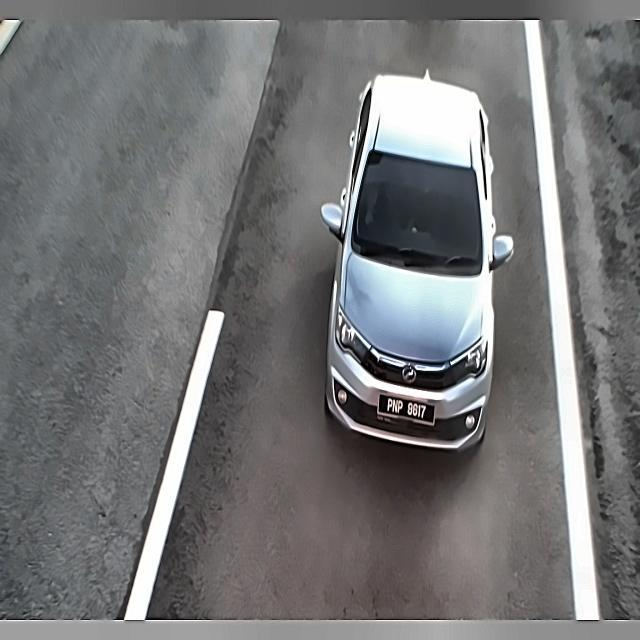car: (375, 390, 441, 432)
